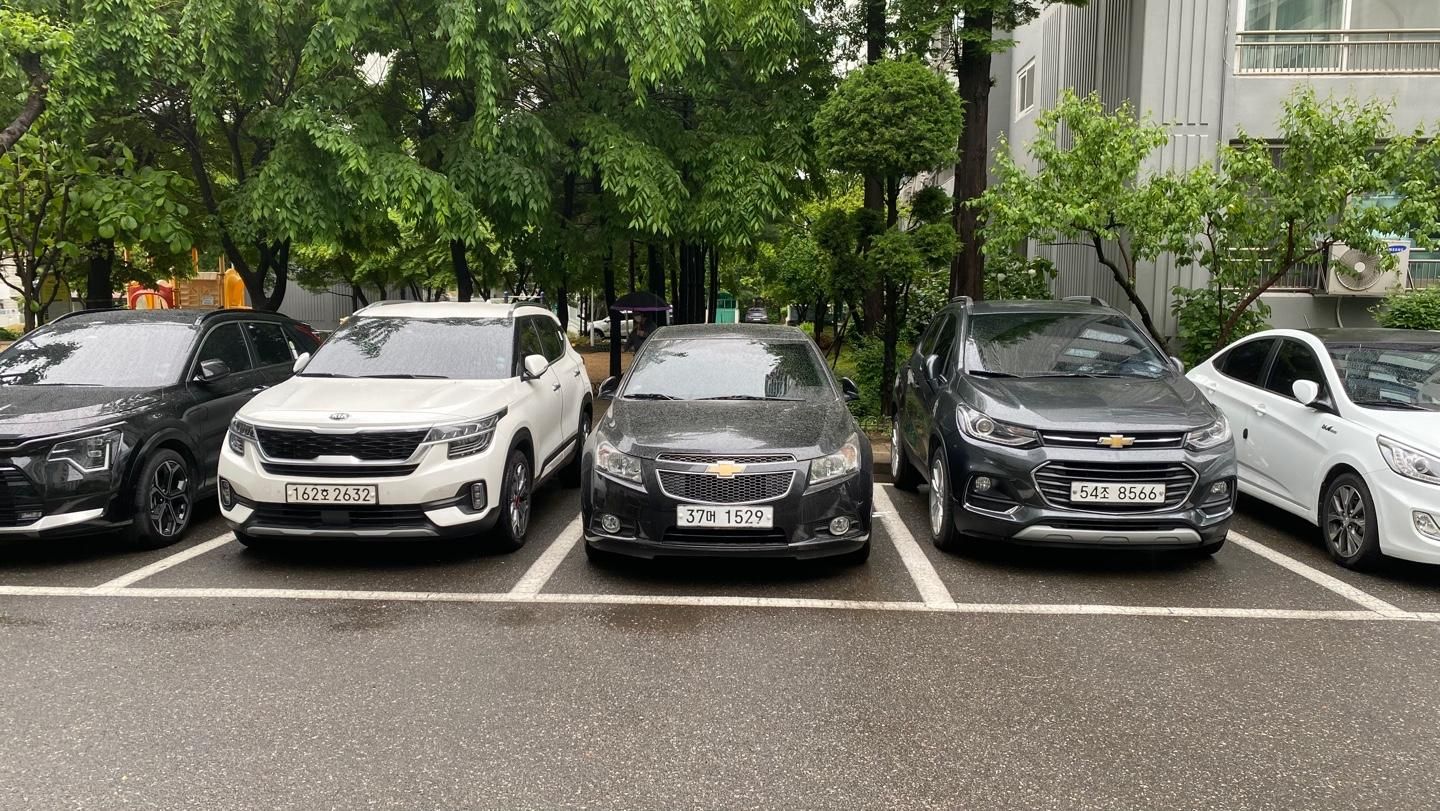occupied: (904, 289, 1239, 570), (217, 300, 569, 555), (587, 319, 878, 566), (0, 300, 220, 548), (1247, 314, 1440, 579)
